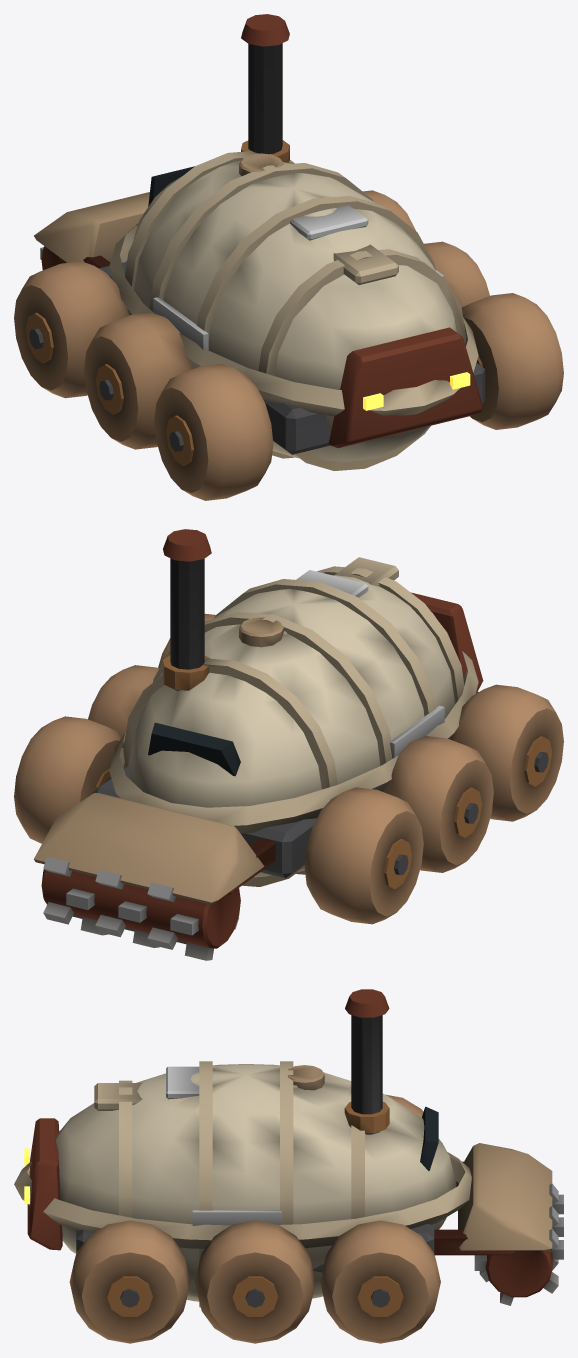
File: HARVESTER.glb
3 views of the same model, one above another, from view 1: azimuth 30°, elevation 25°; view 2: azimuth 150°, elevation 25°; view 3: azimuth 270°, elevation 25° (orthographic). The views are drawn at different scales.
Parts seen in each view (by area): view 1: body, wheel_L2, wheel_L0, wheel_R2, wheel_L1, pipe, scoop, wheel_R1; view 2: body, scoop, wheel_L0, wheel_L2, wheel_L1, wheel_R0, pipe, wheel_R1; view 3: body, scoop, wheel_R2, wheel_R0, wheel_R1, pipe.
Part boxes in pixels (bbox=[...]): body: bbox=[99, 151, 485, 470]; wheel_L2: bbox=[154, 364, 273, 500]; wheel_L0: bbox=[14, 261, 129, 398]; wheel_R2: bbox=[461, 293, 563, 429]; wheel_L1: bbox=[84, 312, 194, 449]; pipe: bbox=[241, 14, 289, 162]; scoop: bbox=[34, 192, 149, 270]; wheel_R1: bbox=[424, 241, 489, 307]; body: bbox=[92, 557, 483, 886]; scoop: bbox=[34, 793, 275, 960]; wheel_L0: bbox=[304, 787, 423, 924]; wheel_L2: bbox=[450, 684, 563, 821]; wheel_L1: bbox=[382, 736, 493, 872]; wheel_R0: bbox=[14, 716, 125, 843]; pipe: bbox=[163, 529, 211, 690]; wheel_R1: bbox=[88, 665, 159, 737]; body: bbox=[14, 1061, 471, 1307]; scoop: bbox=[434, 1143, 563, 1305]; wheel_R2: bbox=[69, 1220, 190, 1343]; wheel_R0: bbox=[320, 1220, 440, 1343]; wheel_R1: bbox=[195, 1220, 315, 1343]; pipe: bbox=[344, 989, 389, 1134].
Size of the model in its own units: 0.85 by 0.782 by 1.23.
